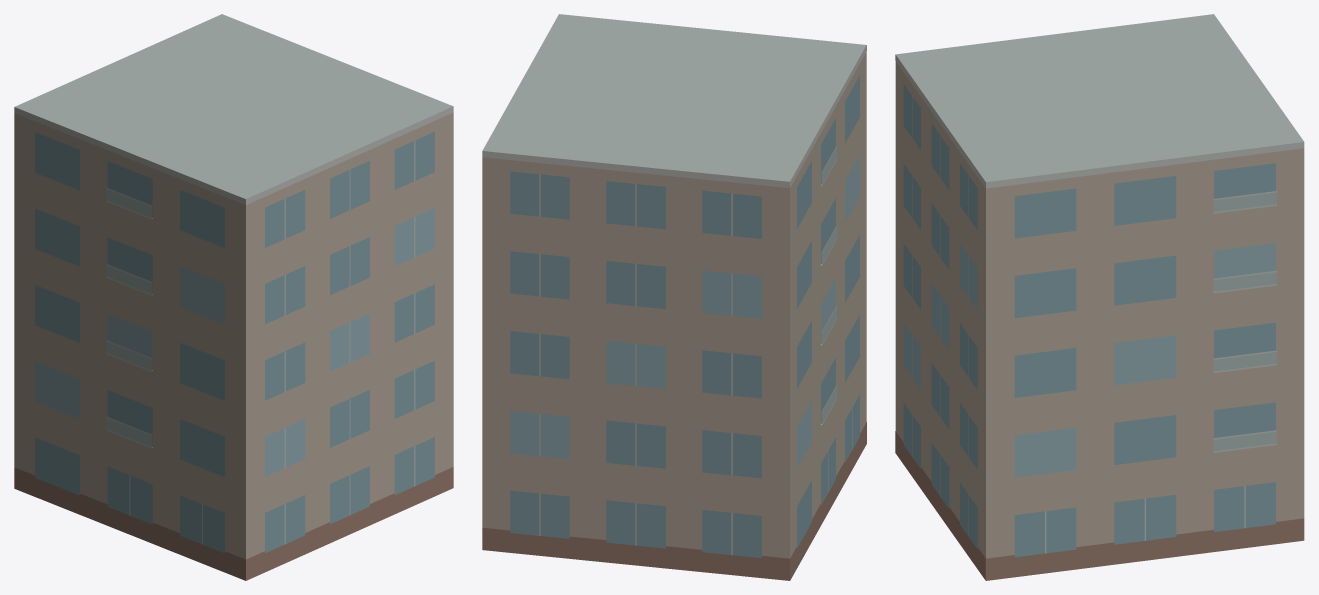
File: survey-upis-32611797.glb
3 renders of one model, left to right at view 1: azimuth 30°, elevation 25°; view 2: azimuth 150°, elevation 25°; view 3: azimuth 270°, elevation 25°, orthographic. The views are drawn at different scales.
Visible parts, largest first — view 1: survey-upis-32611797.tmp; view 2: survey-upis-32611797.tmp; view 3: survey-upis-32611797.tmp.
Part boxes in pixels (x1=…): survey-upis-32611797.tmp: x1=14, y1=14, x2=453, y2=580; survey-upis-32611797.tmp: x1=482, y1=14, x2=866, y2=580; survey-upis-32611797.tmp: x1=895, y1=14, x2=1304, y2=580.
Size of the model in its own units: 13.95 by 15.4 by 14.33.
